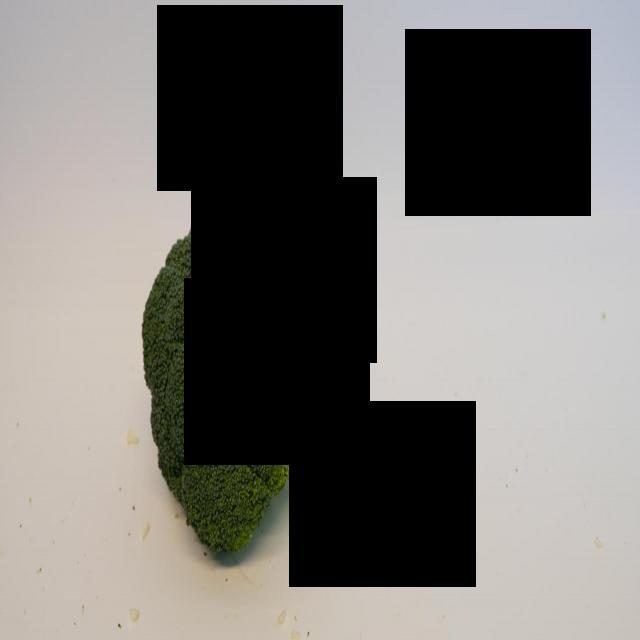broccoli: (141, 180, 338, 558)
